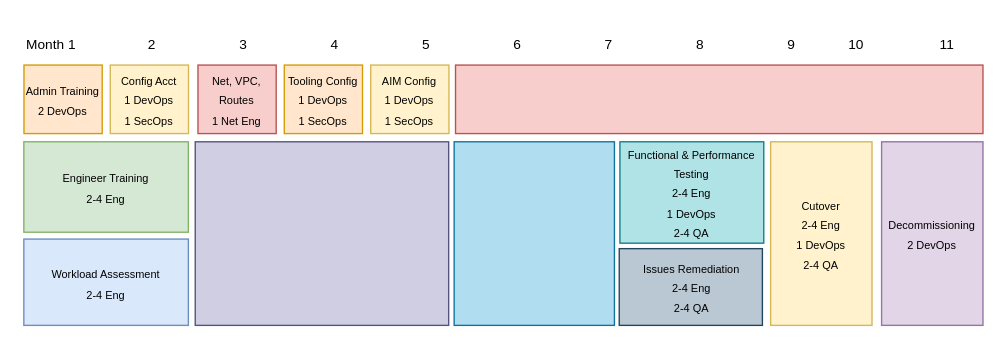
Image size: 1008x349. Some labels were removed from this diagram. Here are the shapes that lost their labels. From the top down, the box of each, then its label:
(454, 64, 983, 134): DevOps Migration Support 1 DevOps Net Eng
(194, 140, 449, 325): Workload Modernization 2-4 Eng 1 DevOps
(453, 140, 614, 325): Workload & Data Migration 2-4 Eng 1 DevOps 1 DBA
